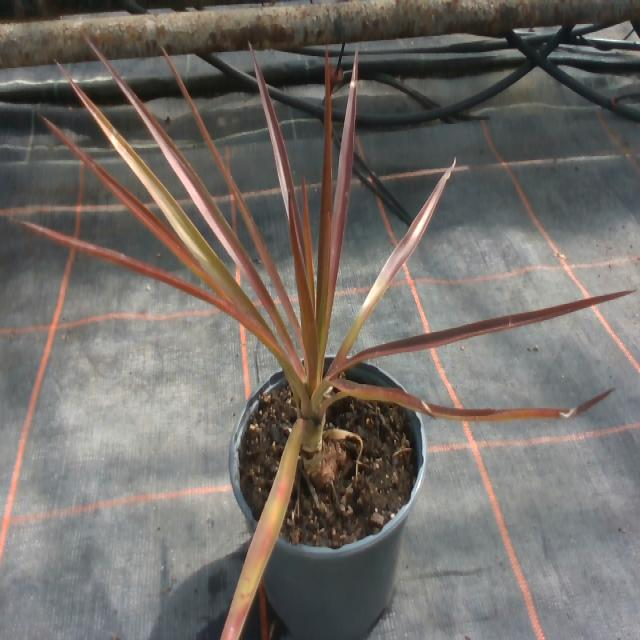Yucca-aloifolia: (103, 63, 301, 373), (61, 67, 273, 336), (20, 223, 292, 368), (165, 53, 301, 341), (45, 120, 212, 285), (338, 291, 632, 372), (338, 160, 454, 364), (220, 419, 310, 639), (250, 45, 300, 248), (333, 380, 569, 420), (327, 55, 356, 320), (289, 195, 318, 389), (316, 51, 331, 337), (85, 101, 123, 153), (303, 176, 314, 309)
